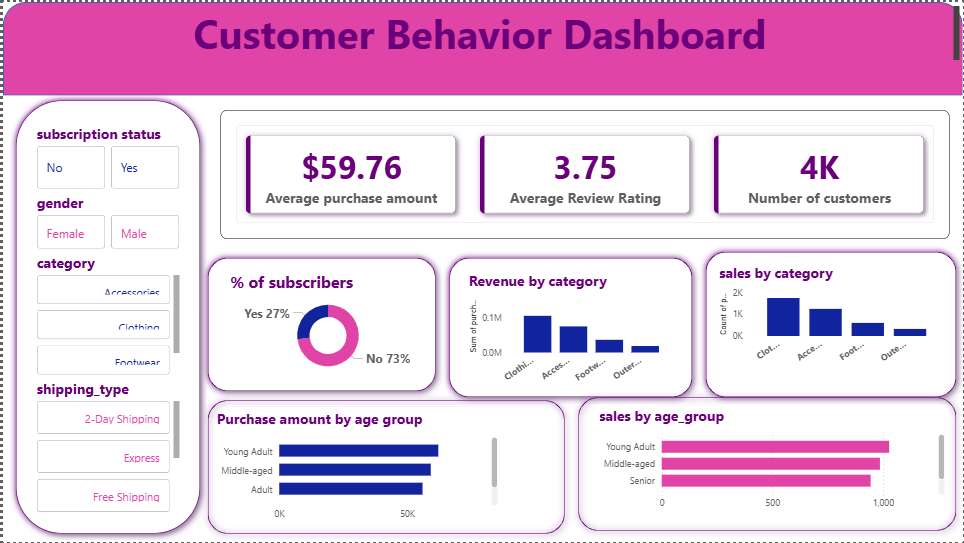

Layout of this report page (visuals, bound fields, positions):
{"tool":"powerbi","page":{"name":"Page 1","canvas":[1280,720],"ordinal":0},"visuals":[{"type":"cardVisual","fields":{"Data":["customer_behavior customer.Average purchase amount","customer_behavior customer.Average Review Rating","customer_behavior customer.Number of customers"]},"box":[290,144,972,172],"z":0},{"type":"shape","box":[0,0,1279.5,124.6],"z":1000},{"type":"textbox","box":[0,0,1280,90],"z":2000},{"type":"shape","box":[264,332,322,196],"z":3000},{"type":"donutChart","title":"% of subscribers","fields":{"Category":["customer_behavior customer.subscription_status"],"Y":["customer_behavior customer.Number of customers"]},"box":[298,358,270,144],"z":4000},{"type":"shape","box":[586,332,342,204],"z":5000},{"type":"shape","box":[928,324,352,212],"z":6000},{"type":"clusteredColumnChart","title":"Revenue by category","fields":{"Y":["Sum(customer_behavior customer.purchase_amount)"],"Category":["customer_behavior customer.category"]},"box":[616,358,284,160],"z":7000},{"type":"clusteredColumnChart","title":"sales by category","fields":{"Y":["CountNonNull(customer_behavior customer.purchase_amount)"],"Category":["customer_behavior customer.category"]},"box":[950,348,310,144],"z":8000},{"type":"shape","box":[8,122,264,596],"z":9000},{"type":"advancedSlicerVisual","title":"subscription status","fields":{"Values":["customer_behavior customer.subscription_status"]},"box":[40,162,200,92],"z":10000},{"type":"advancedSlicerVisual","fields":{"Values":["customer_behavior customer.gender"]},"box":[40,254,200,80],"z":11000},{"type":"advancedSlicerVisual","fields":{"Values":["customer_behavior customer.category"]},"box":[40,334,200,170],"z":12000},{"type":"advancedSlicerVisual","fields":{"Values":["customer_behavior customer.shipping_type"]},"box":[40,502,200,184],"z":13000},{"type":"clusteredBarChart","title":"Purchase amount by age group","fields":{"Y":["Sum(customer_behavior customer.purchase_amount)"],"Category":["customer_behavior customer.age_group"]},"box":[280,542,384,158],"z":14000},{"type":"shape","box":[264,522,494,196],"z":15000},{"type":"shape","box":[758,518,522,196],"z":15001},{"type":"clusteredBarChart","title":"sales by age_group","fields":{"Y":["CountNonNull(customer_behavior customer.customer_id)"],"Category":["customer_behavior customer.age_group"]},"box":[790,538,470,148],"z":15002}]}

Visuals, with their boxes in screenshot pixels (x1, y1, x2, y2), scaled from the page's 1280x720 canvas onto the 964x543 screenshot:
cardVisual - customer_behavior customer.Average purchase amount x customer_behavior customer.Average Review Rating: crop(218, 109, 950, 238)
shape: crop(0, 0, 963, 94)
textbox: crop(0, 0, 963, 68)
shape: crop(199, 250, 441, 398)
"% of subscribers" donutChart: crop(224, 270, 428, 379)
shape: crop(441, 250, 699, 404)
shape: crop(699, 244, 963, 404)
"Revenue by category" clusteredColumnChart: crop(464, 270, 678, 391)
"sales by category" clusteredColumnChart: crop(715, 262, 949, 371)
shape: crop(6, 92, 205, 541)
"subscription status" advancedSlicerVisual: crop(30, 122, 181, 192)
advancedSlicerVisual - customer_behavior customer.gender: crop(30, 192, 181, 252)
advancedSlicerVisual - customer_behavior customer.category: crop(30, 252, 181, 380)
advancedSlicerVisual - customer_behavior customer.shipping_type: crop(30, 379, 181, 517)
"Purchase amount by age group" clusteredBarChart: crop(211, 409, 500, 528)
shape: crop(199, 394, 571, 541)
shape: crop(571, 391, 963, 538)
"sales by age_group" clusteredBarChart: crop(595, 406, 949, 517)
